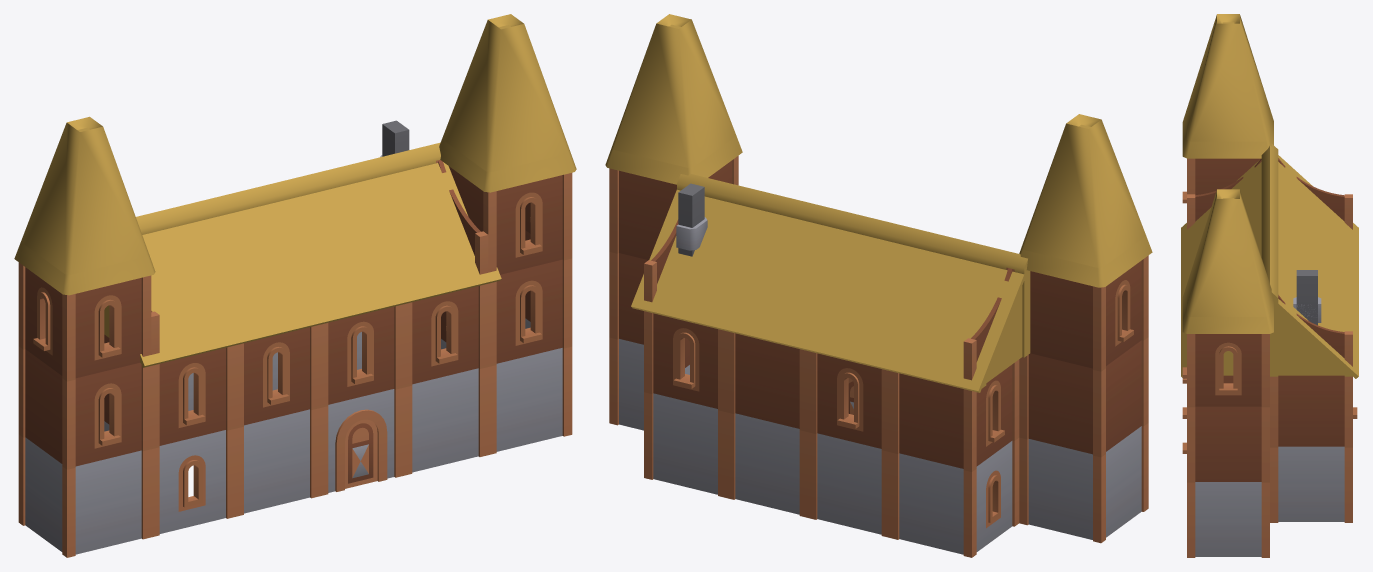
Rendered from cahute-maitre.glb.
3 renders of one model, left to right at view 1: azimuth 30°, elevation 25°; view 2: azimuth 150°, elevation 25°; view 3: azimuth 270°, elevation 25°, orthographic. The views are drawn at different scales.
Parts seen in each view (by area): view 1: wall-window-round, roof-high; view 2: wall-window-round, roof-high; view 3: roof-high, wall-window-round.
Part boxes in pixels (bbox=[...]): wall-window-round: bbox=[18, 120, 572, 557]; roof-high: bbox=[14, 14, 576, 367]; wall-window-round: bbox=[609, 156, 1148, 557]; roof-high: bbox=[605, 14, 1152, 392]; roof-high: bbox=[1181, 14, 1358, 378]; wall-window-round: bbox=[1182, 158, 1357, 557].
Bounding box in the file's own units: 18.3 × 13.8 × 6.42.
Materials: 2 (1 with a texture image).
